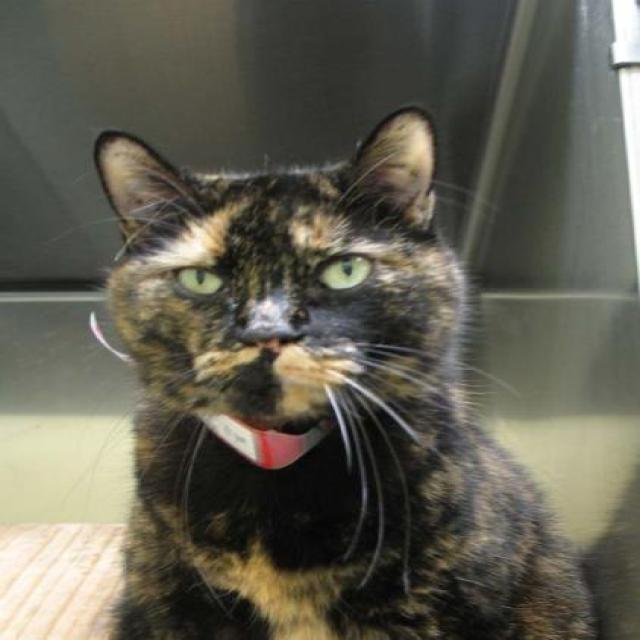Cats: (80, 104, 612, 638)
